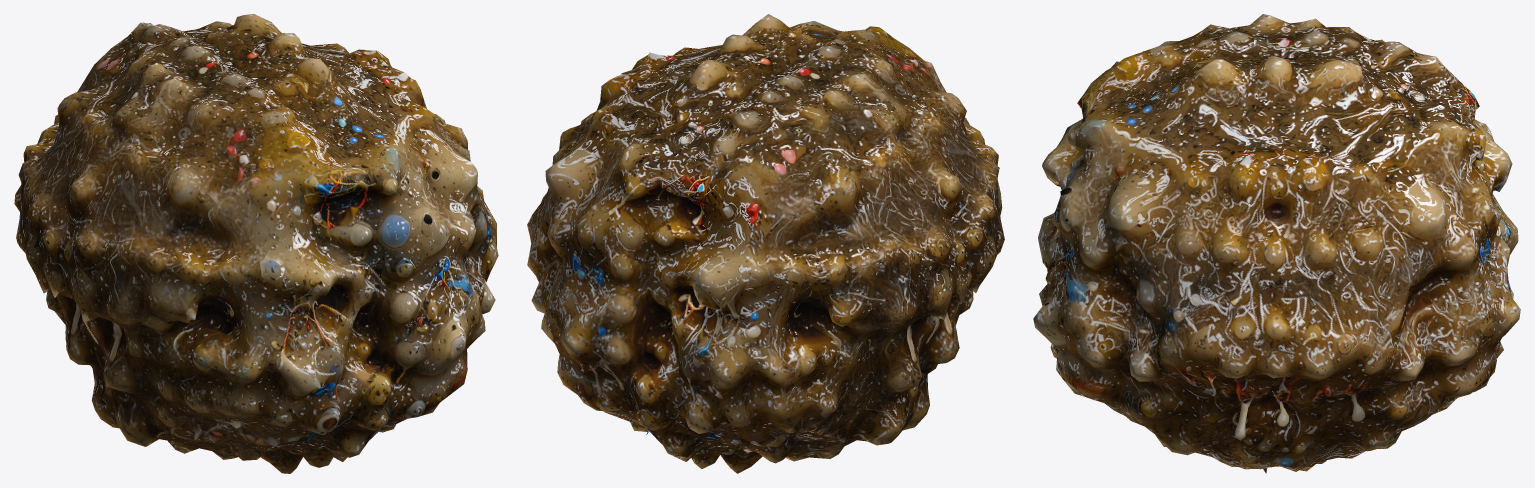
The model's file is sample_microplastic.fbx.
The picture shows the model from 3 angles, left to right: view 1: azimuth 30°, elevation 25°; view 2: azimuth 150°, elevation 25°; view 3: azimuth 270°, elevation 25°; orthographic projection.
Visible parts, largest first — view 1: input; view 2: input; view 3: input.
Part boxes in pixels (box(x1,y1,x2,y2)): input: box(14, 14, 498, 473); input: box(527, 14, 1004, 473); input: box(1033, 14, 1520, 473).
Size of the model in its own units: 97.59 by 92.72 by 98.56.
1 material, 1 textured.
